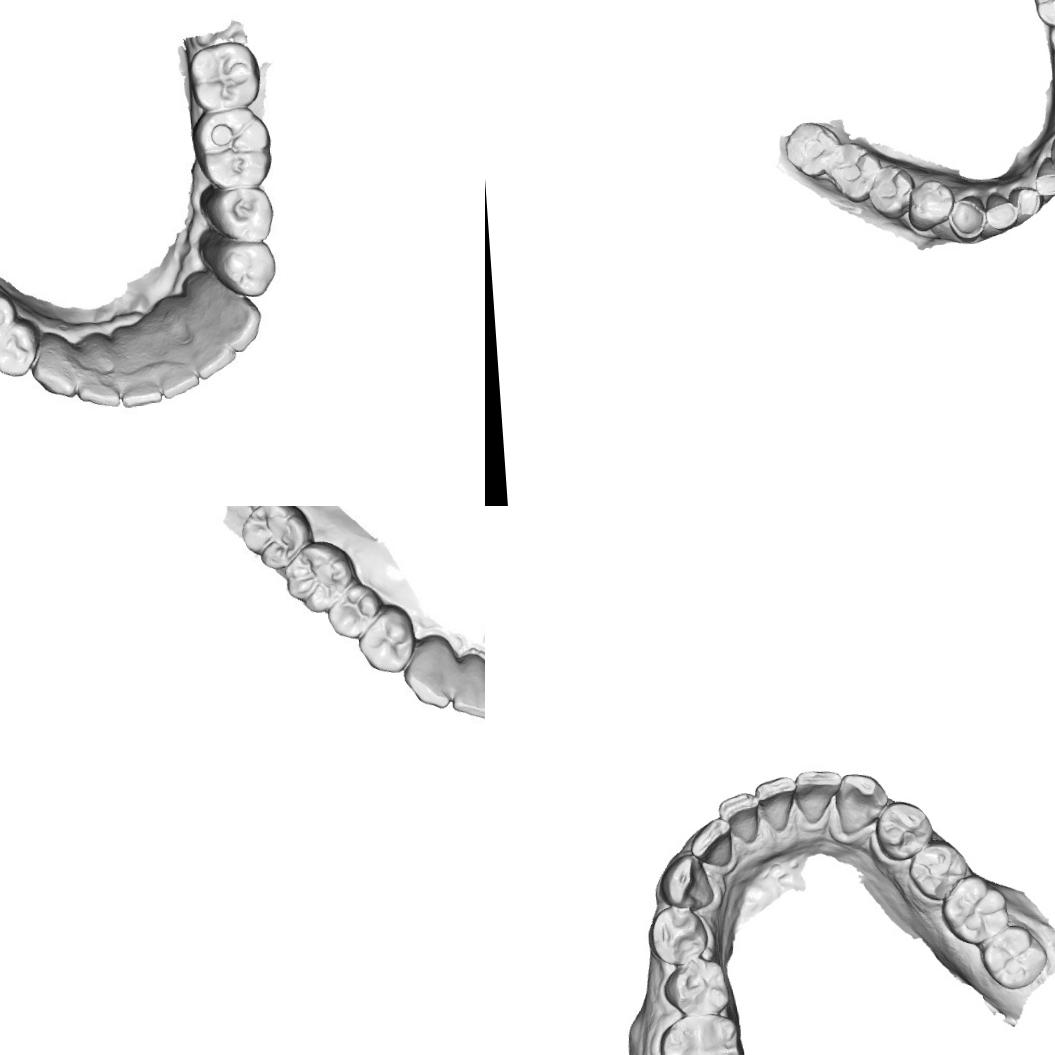canine: (26, 334, 80, 404), (832, 770, 890, 835), (656, 852, 716, 911), (407, 638, 458, 706), (208, 290, 263, 352), (946, 192, 994, 244)
incisor: (151, 347, 208, 400), (74, 354, 125, 411), (753, 775, 800, 834), (794, 768, 842, 824), (190, 332, 244, 380), (116, 356, 164, 408), (689, 816, 735, 870), (716, 791, 761, 845), (449, 650, 485, 717), (1006, 182, 1044, 228), (980, 190, 1019, 232), (1033, 154, 1055, 199)
molar: (189, 105, 274, 194), (187, 38, 265, 112), (938, 871, 1009, 945), (978, 921, 1049, 993), (282, 546, 350, 614), (822, 138, 886, 206), (240, 506, 306, 569), (655, 1010, 746, 1055), (777, 119, 841, 182)
premolar: (646, 904, 712, 968), (662, 956, 731, 1016), (905, 840, 968, 904), (872, 799, 934, 862), (219, 236, 279, 300), (212, 185, 276, 243), (902, 176, 956, 233), (358, 611, 410, 670), (864, 161, 914, 222), (328, 585, 376, 639), (0, 320, 39, 378), (0, 286, 15, 344)
